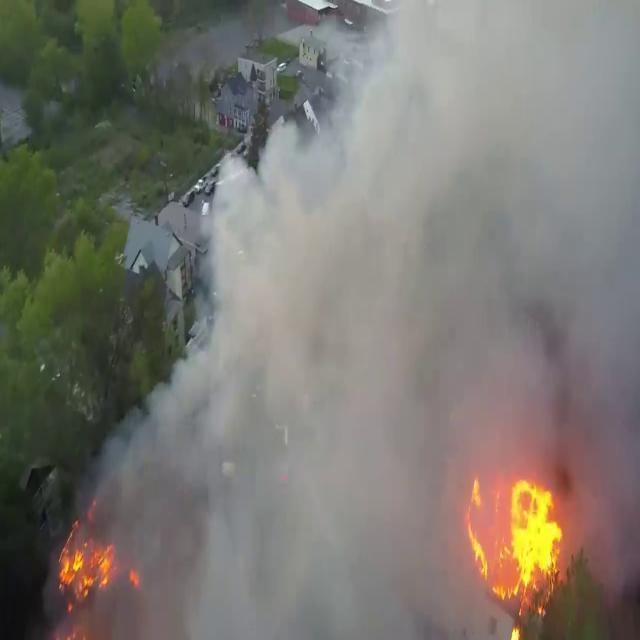Fire: (464, 468, 574, 634), (56, 530, 118, 602)
Smoke: (93, 3, 640, 640)
